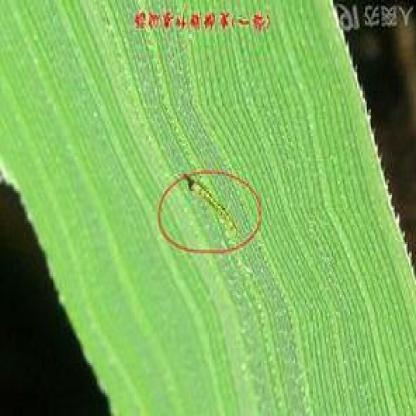leaf-folder: (179, 166, 254, 240)
